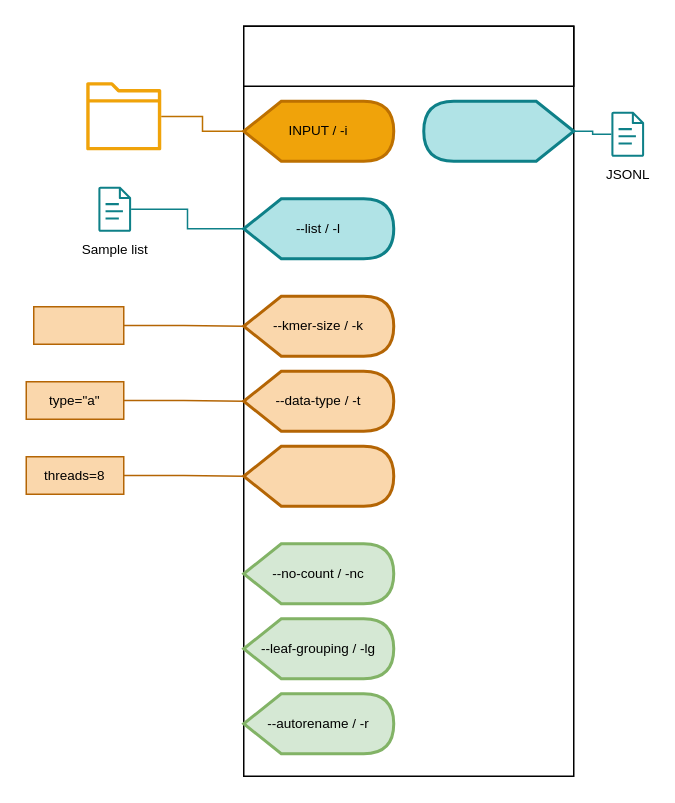
Some shapes in this 675 by 803 pixel diagram are drawn without their labels. The shapes that lost their labels are listed below. From the top down, each one's box as (x1, y1, x2, y2) in pixels, then its label:
(242, 25, 574, 86): list
(85, 80, 161, 151): Data Dir
(422, 99, 574, 162): --output / -o
(32, 305, 124, 344): k=25
(242, 444, 394, 507): --ntcard-threads / -ntt
